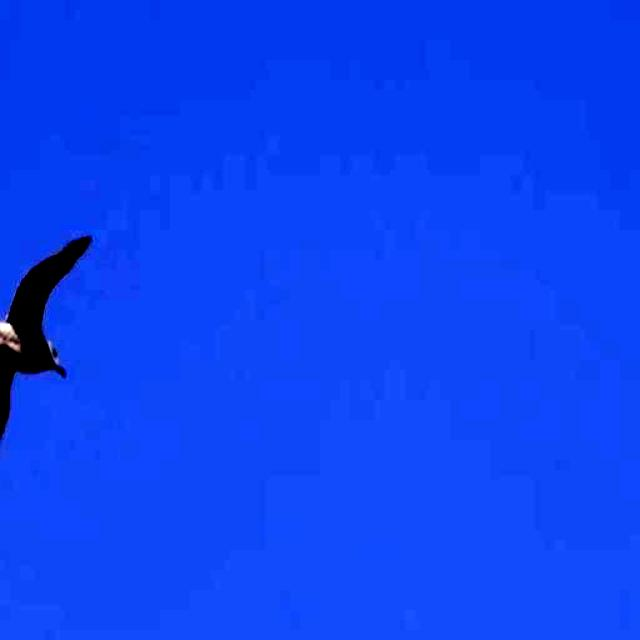airplane: (0, 222, 119, 558)
